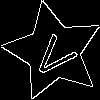V: (28, 26, 85, 83)
